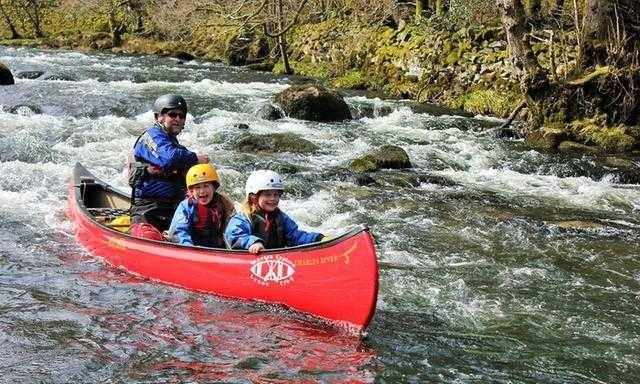kayak: (64, 162, 379, 335)
